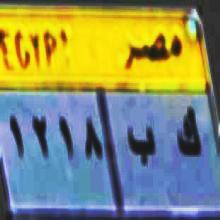1: (56, 113, 75, 172), (9, 109, 25, 173)
2: (33, 107, 50, 174)
8: (81, 111, 104, 172)
baa: (126, 119, 156, 177)
kaaf: (175, 98, 203, 174)
